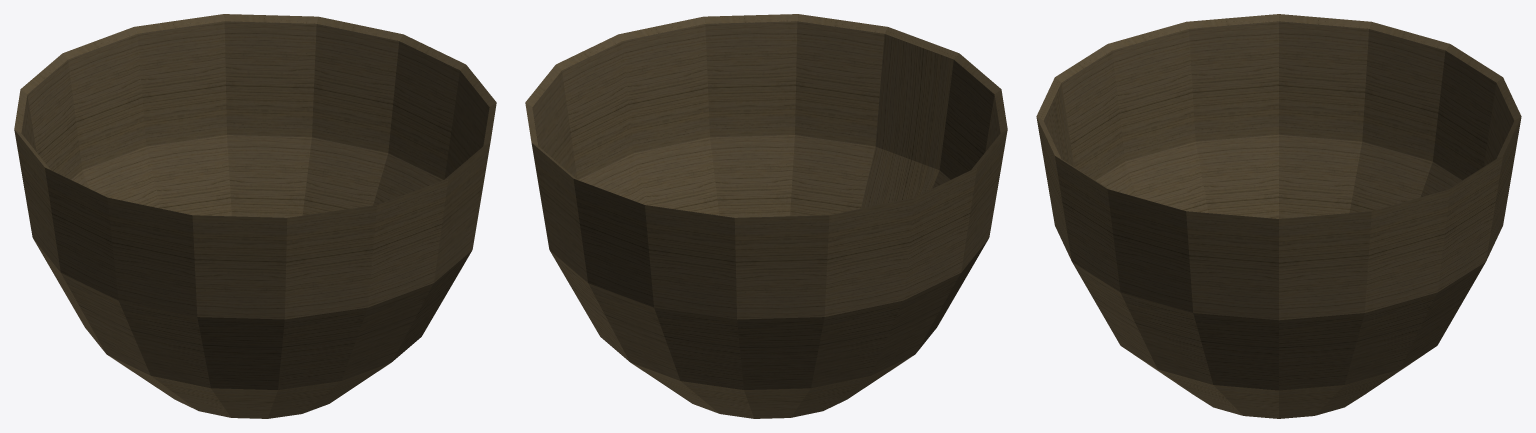
File: Schale.fbx
3 renders of one model, left to right at view 1: azimuth 30°, elevation 25°; view 2: azimuth 150°, elevation 25°; view 3: azimuth 270°, elevation 25°, orthographic.
Parts seen in each view (by area): view 1: schale; view 2: schale; view 3: schale.
Part boxes in pixels (left/top/right/bottom): schale: left=14, top=14, right=496, bottom=418; schale: left=525, top=14, right=1007, bottom=418; schale: left=1036, top=14, right=1521, bottom=418.
Bounding box in the file's own units: 50 × 30 × 50.
